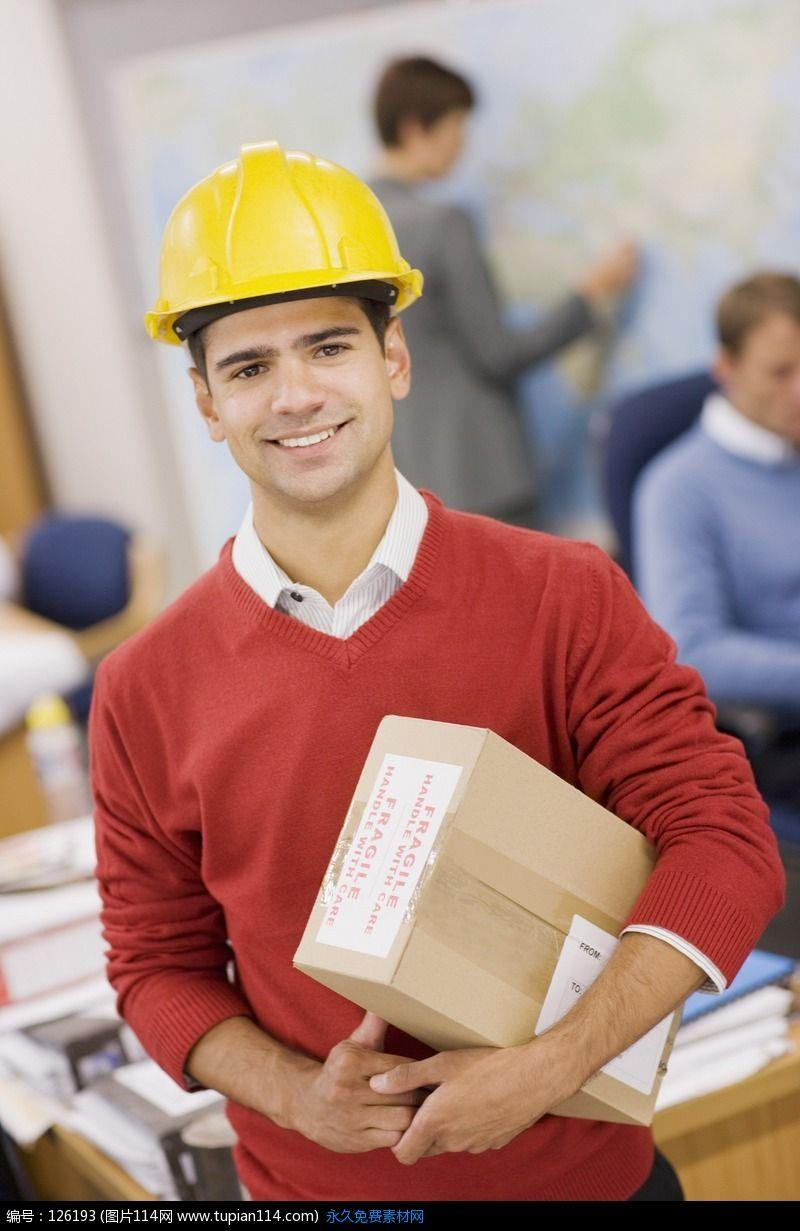helmet: (145, 137, 423, 343)
